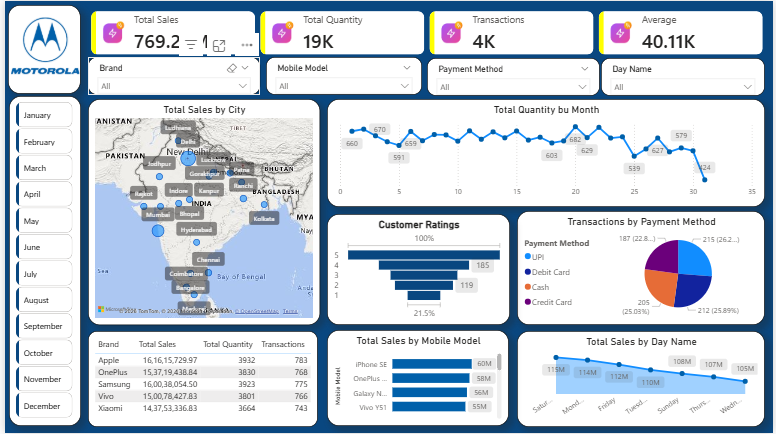

The page's visual inventory and layout, read from the dashboard file:
{"tool":"powerbi","page":{"name":"Page 1","canvas":[1280,720],"ordinal":0},"visuals":[{"type":"shape","box":[5.5,6.9,120.8,148.2],"z":0},{"type":"image","box":[9.6,16.5,113.9,116.6],"z":1000},{"type":"shape","box":[5.9,158.7,120.5,549.6],"z":2000},{"type":"advancedSlicerVisual","fields":{"Values":["Sales Data.Date.Variation.Date Hierarchy.Month"]},"box":[13.2,163.1,104.3,546.6],"z":3000},{"type":"cardVisual","fields":{"Data":["Sales Data.Total Sales","Sales Data.Total Quantity","Sales Data.Transactions","Sales Data.Average"]},"box":[126.7,0,1153.3,106.7],"z":4000},{"type":"map","fields":{"Category":["Sales Data.City"],"Size":["Sales Data.Total Sales"]},"box":[138.3,163.3,386.7,376.7],"z":5000},{"type":"lineChart","title":"Total Quantity bu Month","fields":{"Y":["Sum(Sales Data.Units Sold)"],"Category":["Sales Data.Date.Variation.Date Hierarchy.Month","Sales Data.Date.Variation.Date Hierarchy.Day"]},"box":[536.7,163.3,730,180],"z":6000},{"type":"pieChart","fields":{"Category":["Sales Data.Payment Method"],"Y":["Sales Data.Transactions"]},"box":[853.3,350,413.3,190],"z":7000},{"type":"funnel","title":"Customer Ratings","fields":{"Category":["Sales Data.Customer Ratings"],"Y":["CountNonNull(Sales Data.Customer Ratings)"]},"box":[536.7,355,305,185],"z":8000},{"type":"areaChart","fields":{"Category":["Sales Data.Day Name"],"Y":["Sales Data.Total Sales"]},"box":[853.3,550,413.3,160],"z":9000},{"type":"clusteredBarChart","fields":{"Category":["Sales Data.Mobile Model"],"Y":["Sales Data.Total Sales"]},"box":[536.7,548.3,303.3,160],"z":10000},{"type":"tableEx","fields":{"Values":["Sales Data.Brand","Sales Data.Total Sales","Sales Data.Total Quantity","Sales Data.Transactions"]},"box":[138.3,550,383.3,160],"z":11000},{"type":"slicer","fields":{"Values":["Sales Data.Mobile Model"]},"box":[434.9,94,260.1,63.2],"z":12000},{"type":"slicer","fields":{"Values":["Sales Data.Payment Method"]},"box":[703.8,95.5,288,63.2],"z":13000},{"type":"slicer","fields":{"Values":["Sales Data.Brand"]},"box":[138.1,94,286.5,63.2],"z":14000},{"type":"slicer","fields":{"Values":["Sales Data.Day Name"]},"box":[993.3,95,273.3,63.3],"z":15000}]}

Visuals, with their boxes in screenshot pixels (x1, y1, x2, y2), scaled from the page's 1280x720 canvas onto the 776x434 screenshot:
shape: (left=3, top=4, right=77, bottom=93)
image: (left=6, top=10, right=75, bottom=80)
shape: (left=4, top=96, right=77, bottom=427)
advancedSlicerVisual - Sales Data.Date.Variation.Date Hierarchy.Month: (left=8, top=98, right=71, bottom=428)
cardVisual - Sales Data.Total Sales x Sales Data.Total Quantity: (left=77, top=0, right=775, bottom=64)
map - Sales Data.City x Sales Data.Total Sales: (left=84, top=98, right=318, bottom=326)
"Total Quantity bu Month" lineChart: (left=325, top=98, right=768, bottom=207)
pieChart - Sales Data.Payment Method x Sales Data.Transactions: (left=517, top=211, right=768, bottom=326)
"Customer Ratings" funnel: (left=325, top=214, right=510, bottom=326)
areaChart - Sales Data.Day Name x Sales Data.Total Sales: (left=517, top=332, right=768, bottom=428)
clusteredBarChart - Sales Data.Mobile Model x Sales Data.Total Sales: (left=325, top=331, right=509, bottom=427)
tableEx - Sales Data.Brand x Sales Data.Total Sales: (left=84, top=332, right=316, bottom=428)
slicer - Sales Data.Mobile Model: (left=264, top=57, right=421, bottom=95)
slicer - Sales Data.Payment Method: (left=427, top=58, right=601, bottom=96)
slicer - Sales Data.Brand: (left=84, top=57, right=257, bottom=95)
slicer - Sales Data.Day Name: (left=602, top=57, right=768, bottom=95)
